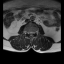CCS_stenosis: (30, 30, 32, 37)
LFS_stenosis: (33, 30, 35, 35)
LLS_normal: (32, 30, 33, 36)
RFS_stenosis: (26, 30, 28, 35)
RLS_normal: (28, 30, 30, 36)
